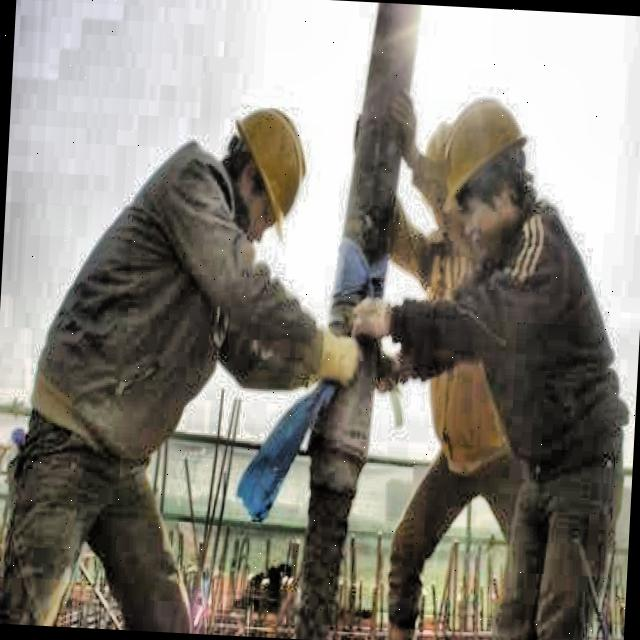helmet: (210, 82, 324, 252), (441, 82, 544, 248), (418, 114, 464, 233)
